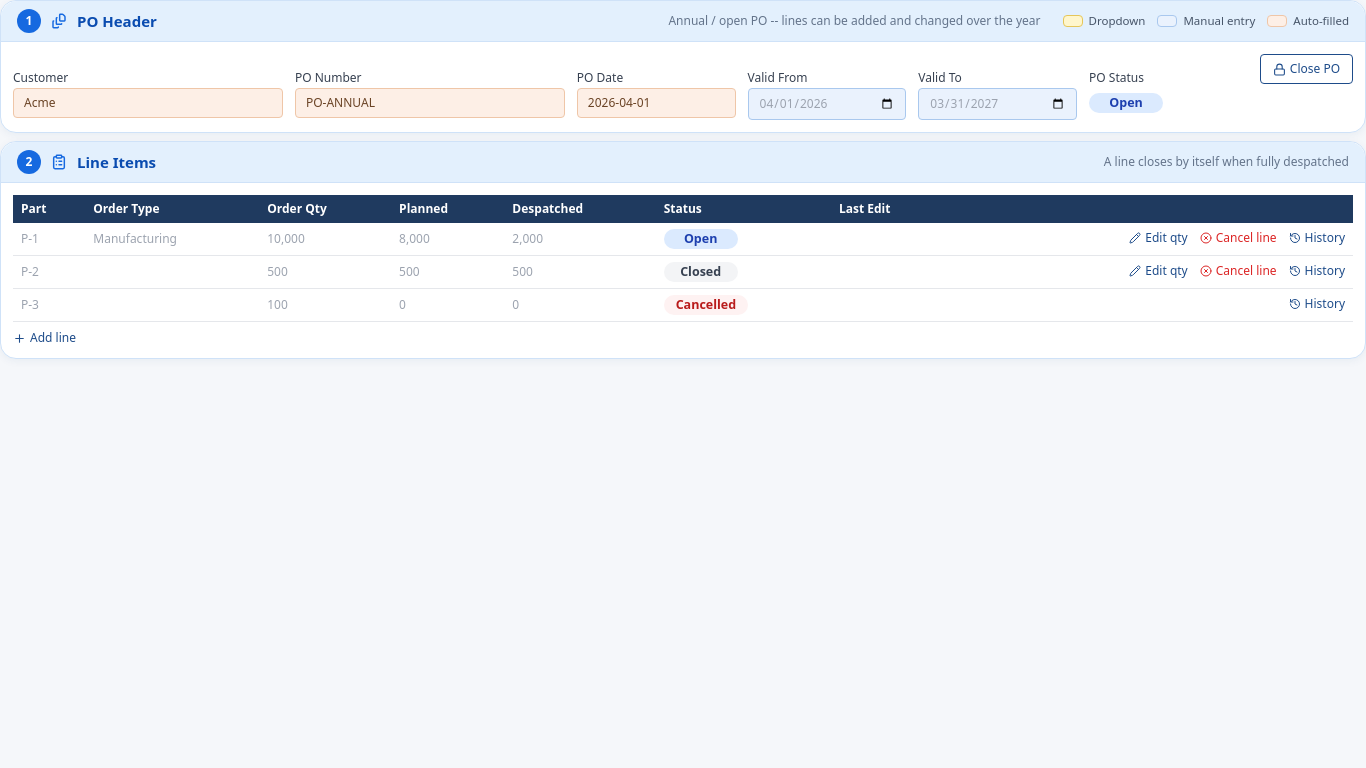
Test case: PO view › Close PO asks first, then saves po_status
Later steps or results of the test are not shown.
Click the button "Close PO" at x=1306, y=69, box [1260, 54, 1353, 84]
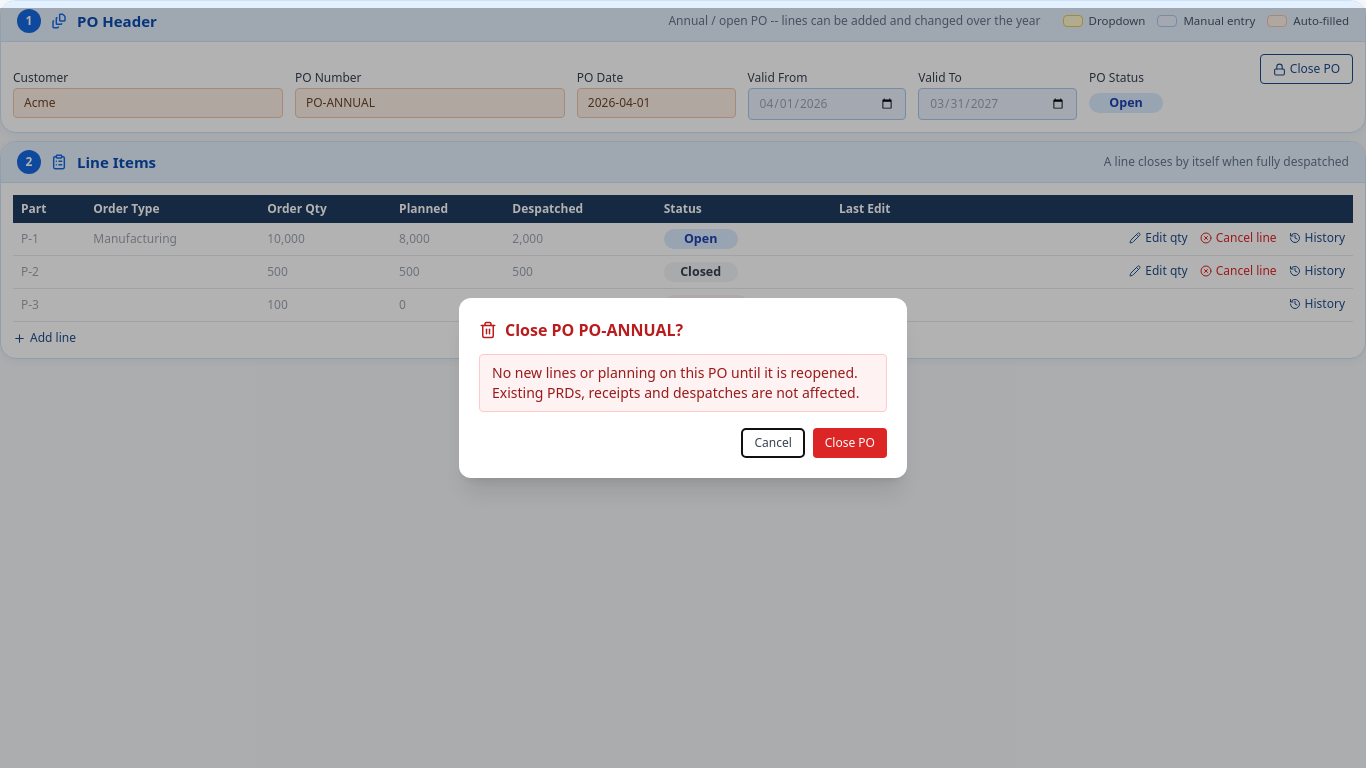
Now the heading "Close PO PO-ANNUAL?" is shown, box [505, 318, 683, 342]
